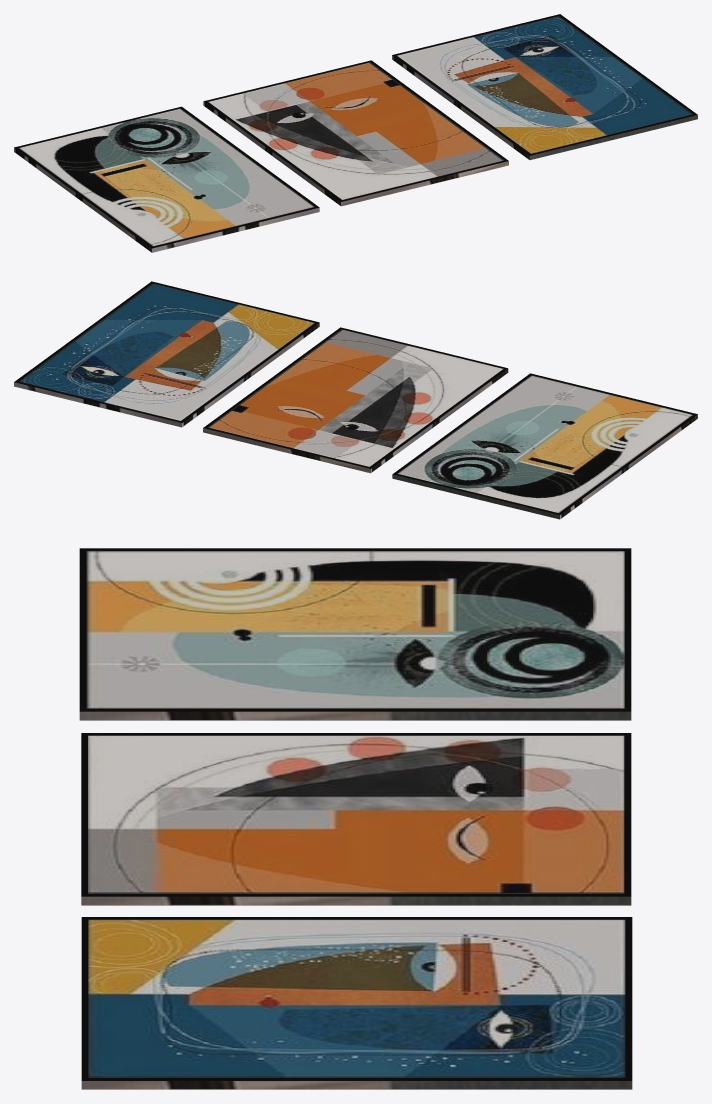
The picture shows the model from 3 angles, top to bottom: view 1: azimuth 30°, elevation 25°; view 2: azimuth 150°, elevation 25°; view 3: azimuth 270°, elevation 25°; orthographic projection. The views are drawn at different scales.
Parts seen in each view (by area): view 1: mesh_2_ROOT_Layer0_174_167_163_ss, mesh_0_ROOT_Layer0_0_0_0_ss; view 2: mesh_2_ROOT_Layer0_174_167_163_ss, mesh_0_ROOT_Layer0_0_0_0_ss; view 3: mesh_2_ROOT_Layer0_174_167_163_ss, mesh_0_ROOT_Layer0_0_0_0_ss.
Boxes of the visible parts, x1,y1,x2,y2 form: mesh_2_ROOT_Layer0_174_167_163_ss: (14, 16, 697, 252); mesh_0_ROOT_Layer0_0_0_0_ss: (14, 14, 697, 248); mesh_2_ROOT_Layer0_174_167_163_ss: (14, 283, 697, 519); mesh_0_ROOT_Layer0_0_0_0_ss: (14, 281, 697, 514); mesh_2_ROOT_Layer0_174_167_163_ss: (79, 551, 632, 1089); mesh_0_ROOT_Layer0_0_0_0_ss: (79, 548, 632, 1080).
Bounding box in the file's own units: 2592 × 20 × 1136.
Materials: 3 (1 with a texture image).
